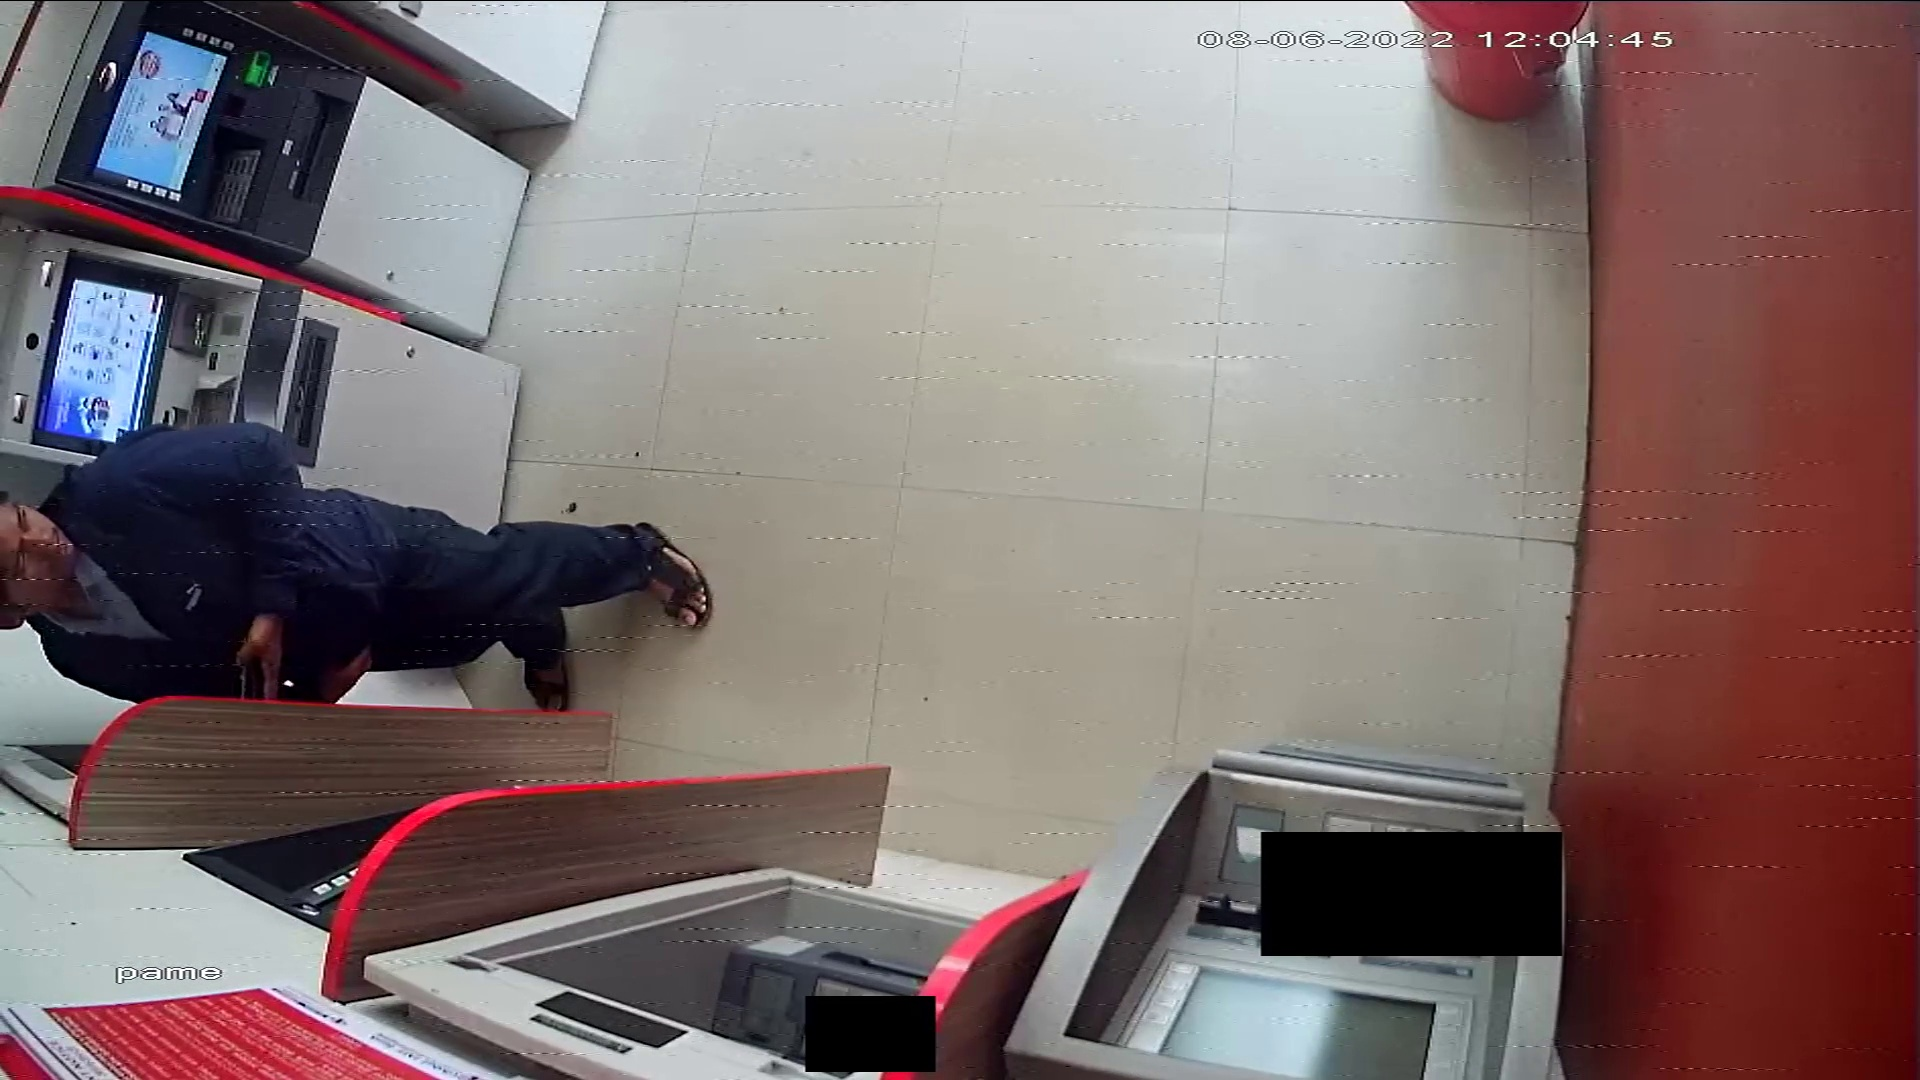person: (1, 421, 715, 715)
